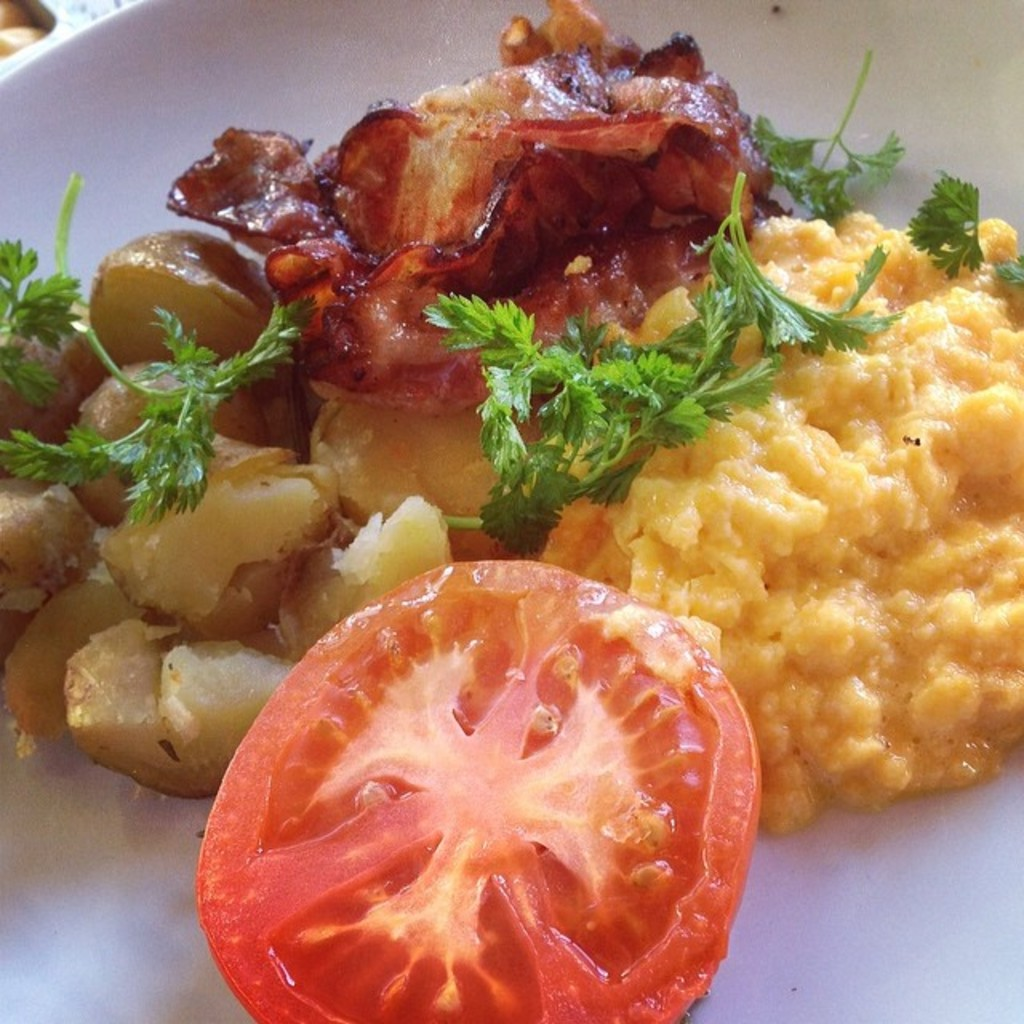Tomato: (196, 560, 758, 1022)
